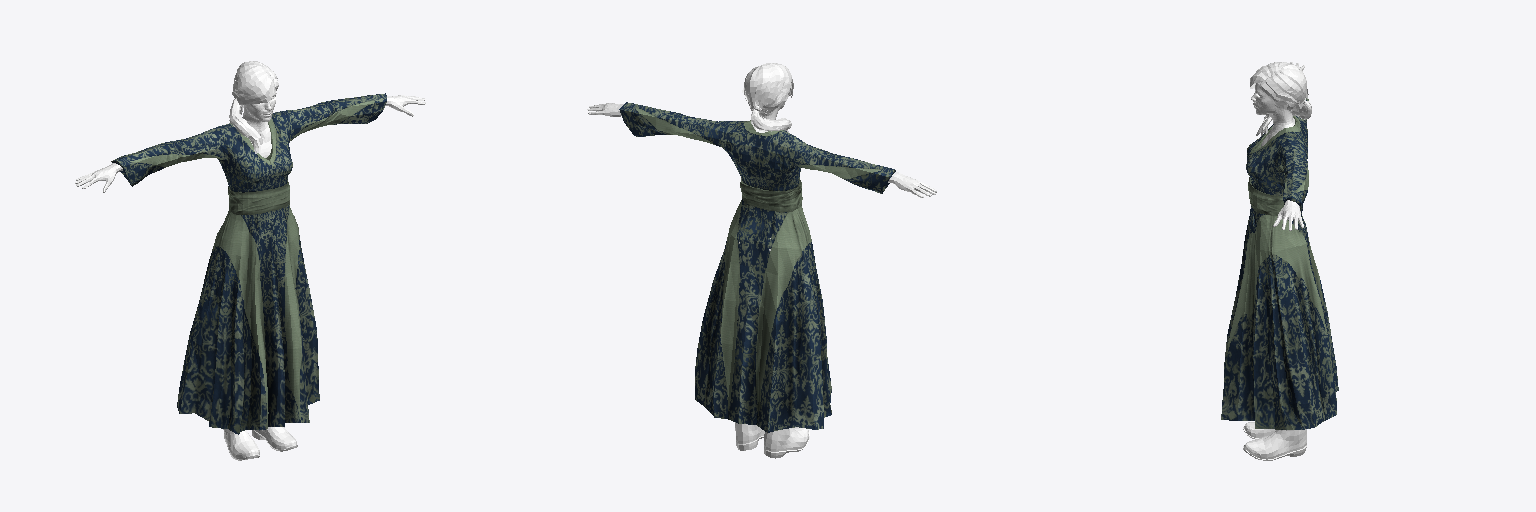
The picture shows the model from 3 angles: view 1: azimuth 30°, elevation 25°; view 2: azimuth 150°, elevation 25°; view 3: azimuth 270°, elevation 25°; orthographic projection.
Parts seen in each view (by area): view 1: Tops, Hair, Body, Shoes; view 2: Tops, Hair, Shoes, Body; view 3: Tops, Hair, Shoes, Body.
Part boxes in pixels (left/top/right/bottom): Tops: left=111, top=93, right=386, bottom=434; Hair: left=229, top=61, right=278, bottom=153; Body: left=75, top=89, right=425, bottom=192; Shoes: left=223, top=427, right=297, bottom=460; Tops: left=619, top=102, right=895, bottom=432; Hair: left=742, top=63, right=793, bottom=132; Shoes: left=735, top=422, right=809, bottom=458; Body: left=587, top=101, right=936, bottom=197; Tops: left=1221, top=98, right=1338, bottom=429; Hair: left=1250, top=62, right=1311, bottom=135; Shoes: left=1243, top=422, right=1306, bottom=460; Body: left=1251, top=62, right=1304, bottom=230.
Bounding box in the file's own units: 167 × 176 × 48.93.
Materials: 5 (1 with a texture image).